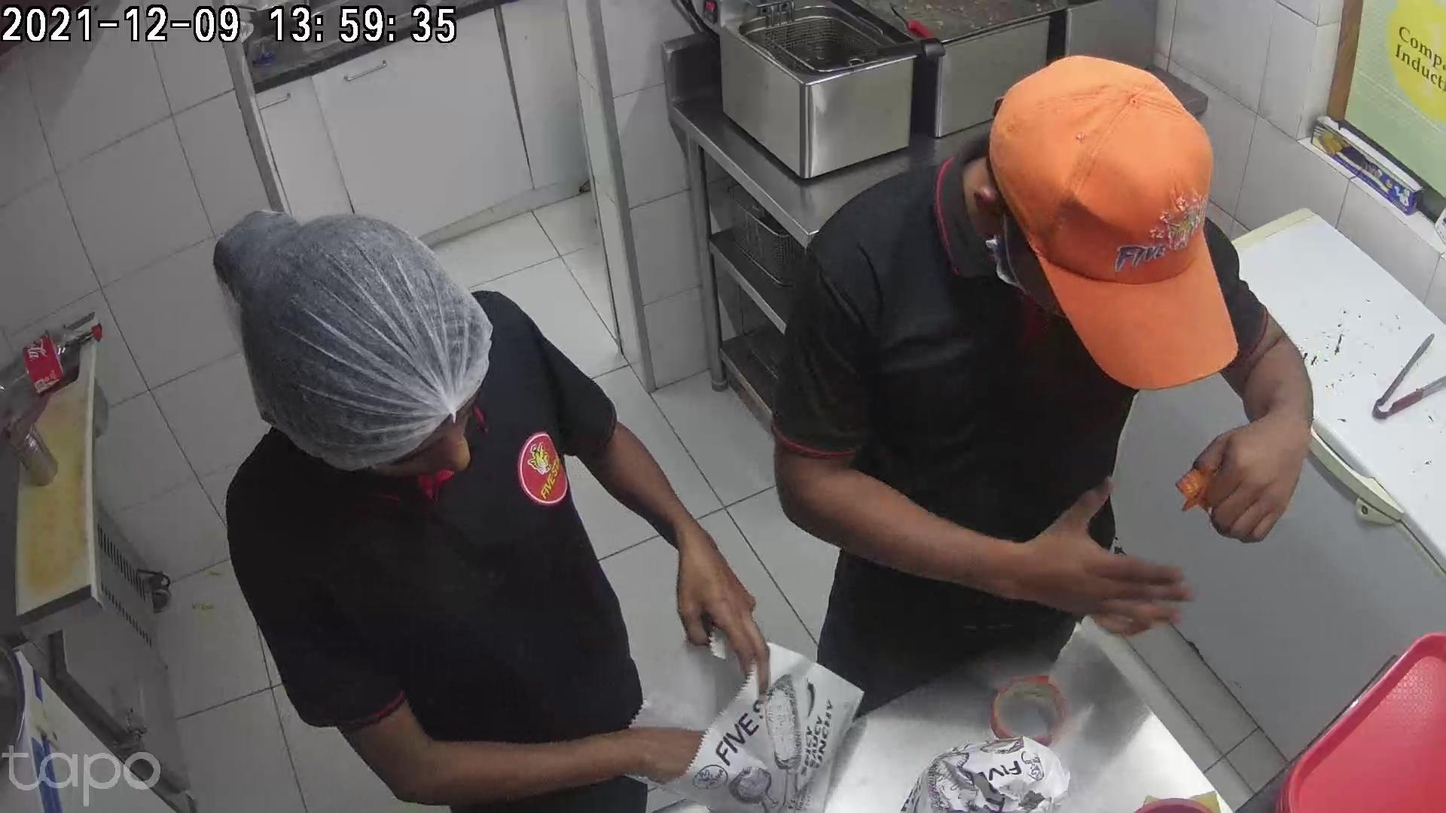no_gloves: (974, 480, 1177, 638), (676, 514, 774, 690)
